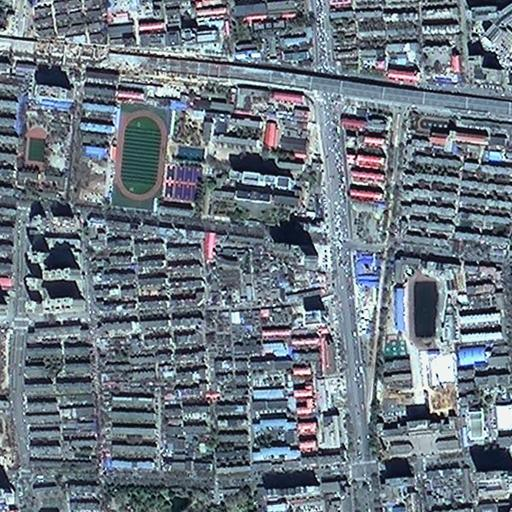school: (378, 256, 458, 459), (404, 106, 512, 151), (16, 111, 71, 199)
